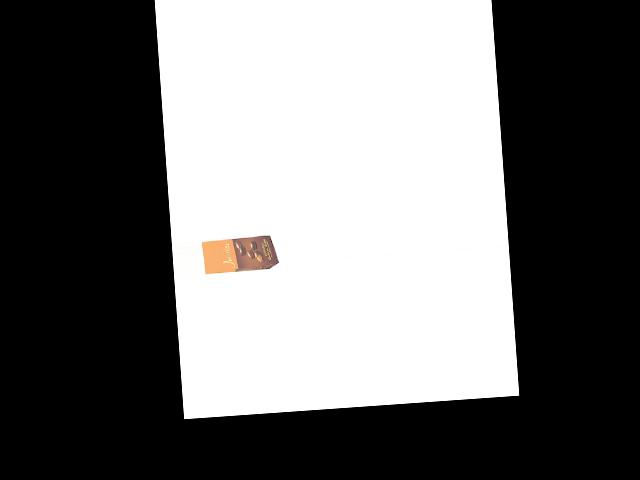chocolate: (201, 230, 278, 276)
